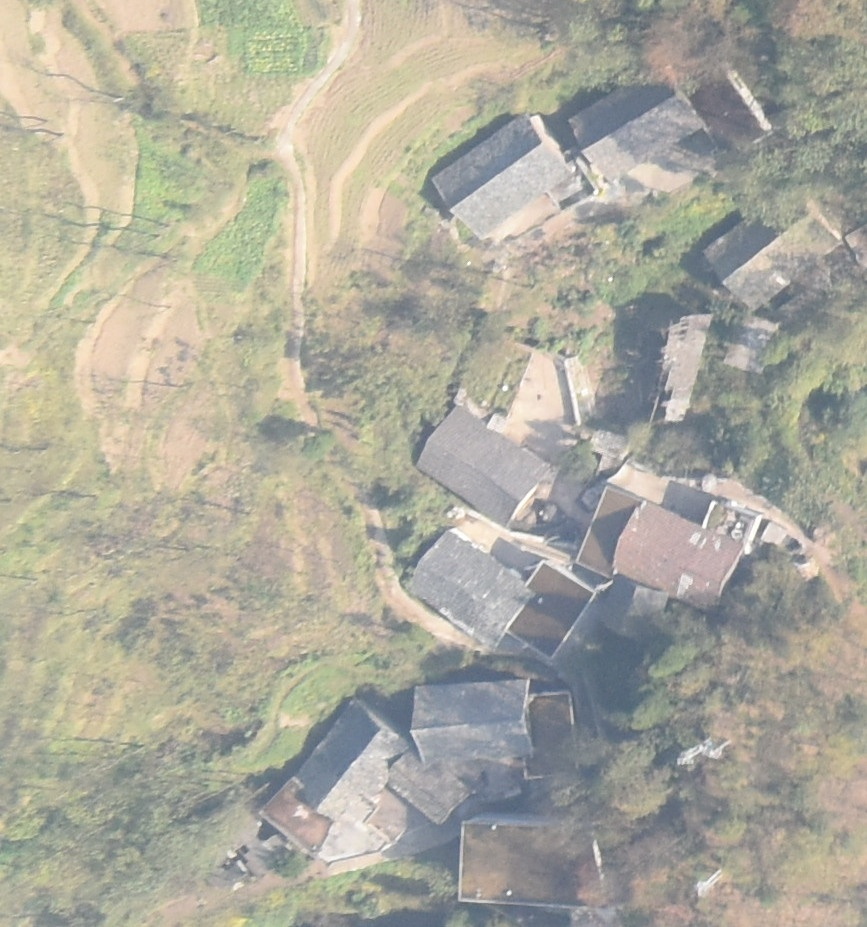building: (458, 808, 633, 913), (431, 114, 577, 236), (703, 184, 843, 310), (415, 403, 554, 527), (611, 500, 747, 614), (407, 528, 534, 647), (567, 76, 706, 184), (296, 701, 406, 825), (410, 679, 540, 764), (627, 312, 719, 424), (506, 561, 599, 661), (386, 749, 475, 822), (258, 780, 336, 859), (523, 692, 580, 779), (600, 575, 670, 640), (702, 501, 761, 553)
